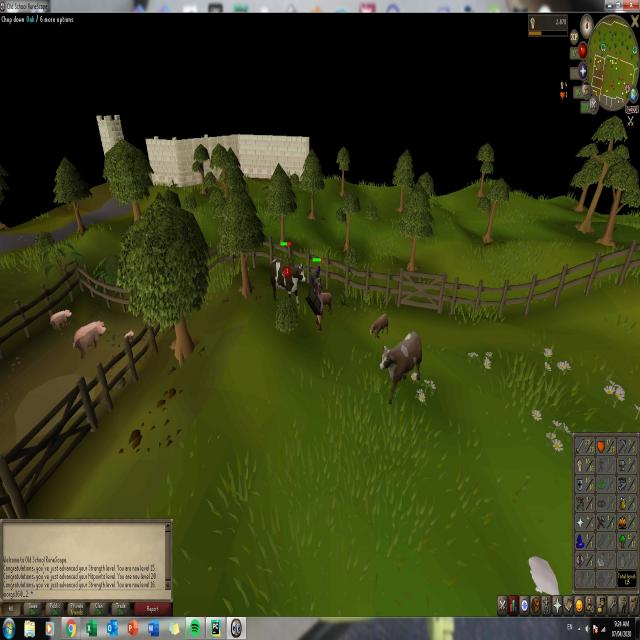cow: (379, 328, 423, 403), (270, 258, 306, 308)
